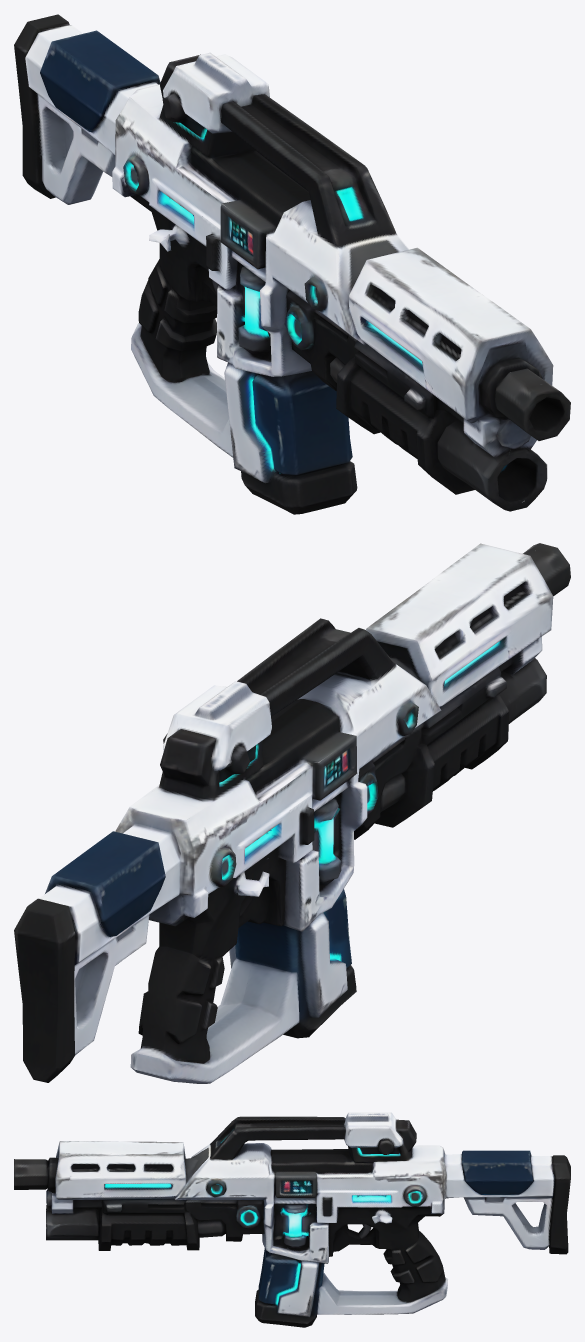
The model's file is PulseRifle_Model.fbx.
3 renders of one model, top to bottom at view 1: azimuth 30°, elevation 25°; view 2: azimuth 150°, elevation 25°; view 3: azimuth 270°, elevation 25°, orthographic. The views are drawn at different scales.
Parts seen in each view (by area): view 1: model; view 2: model; view 3: model.
Boxes of the visible parts, x1,y1,x2,y2 form: model: (14, 14, 570, 514); model: (14, 543, 570, 1083); model: (14, 1112, 570, 1327).
Bounding box in the file's own units: 23.58 × 77.42 × 190.
